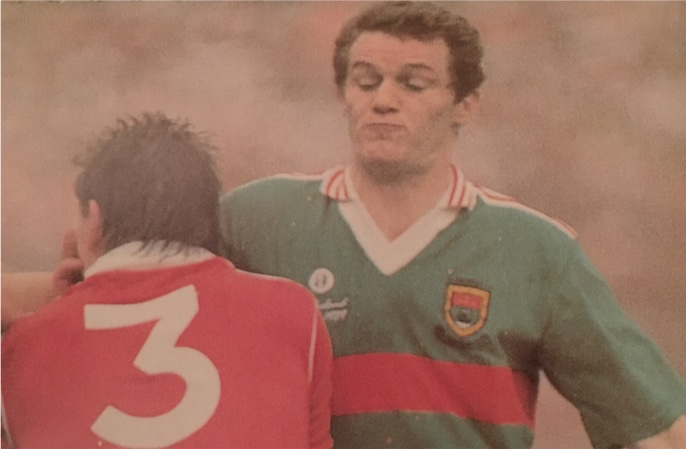player: (251, 6, 678, 447), (20, 105, 325, 433)
